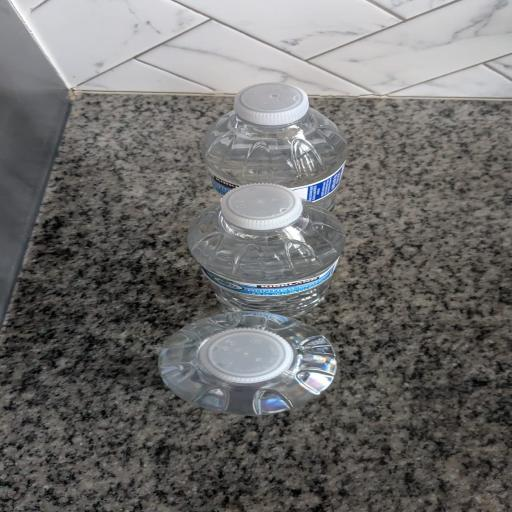waterbottle: (188, 184, 344, 316), (202, 84, 347, 210), (159, 312, 336, 414)
